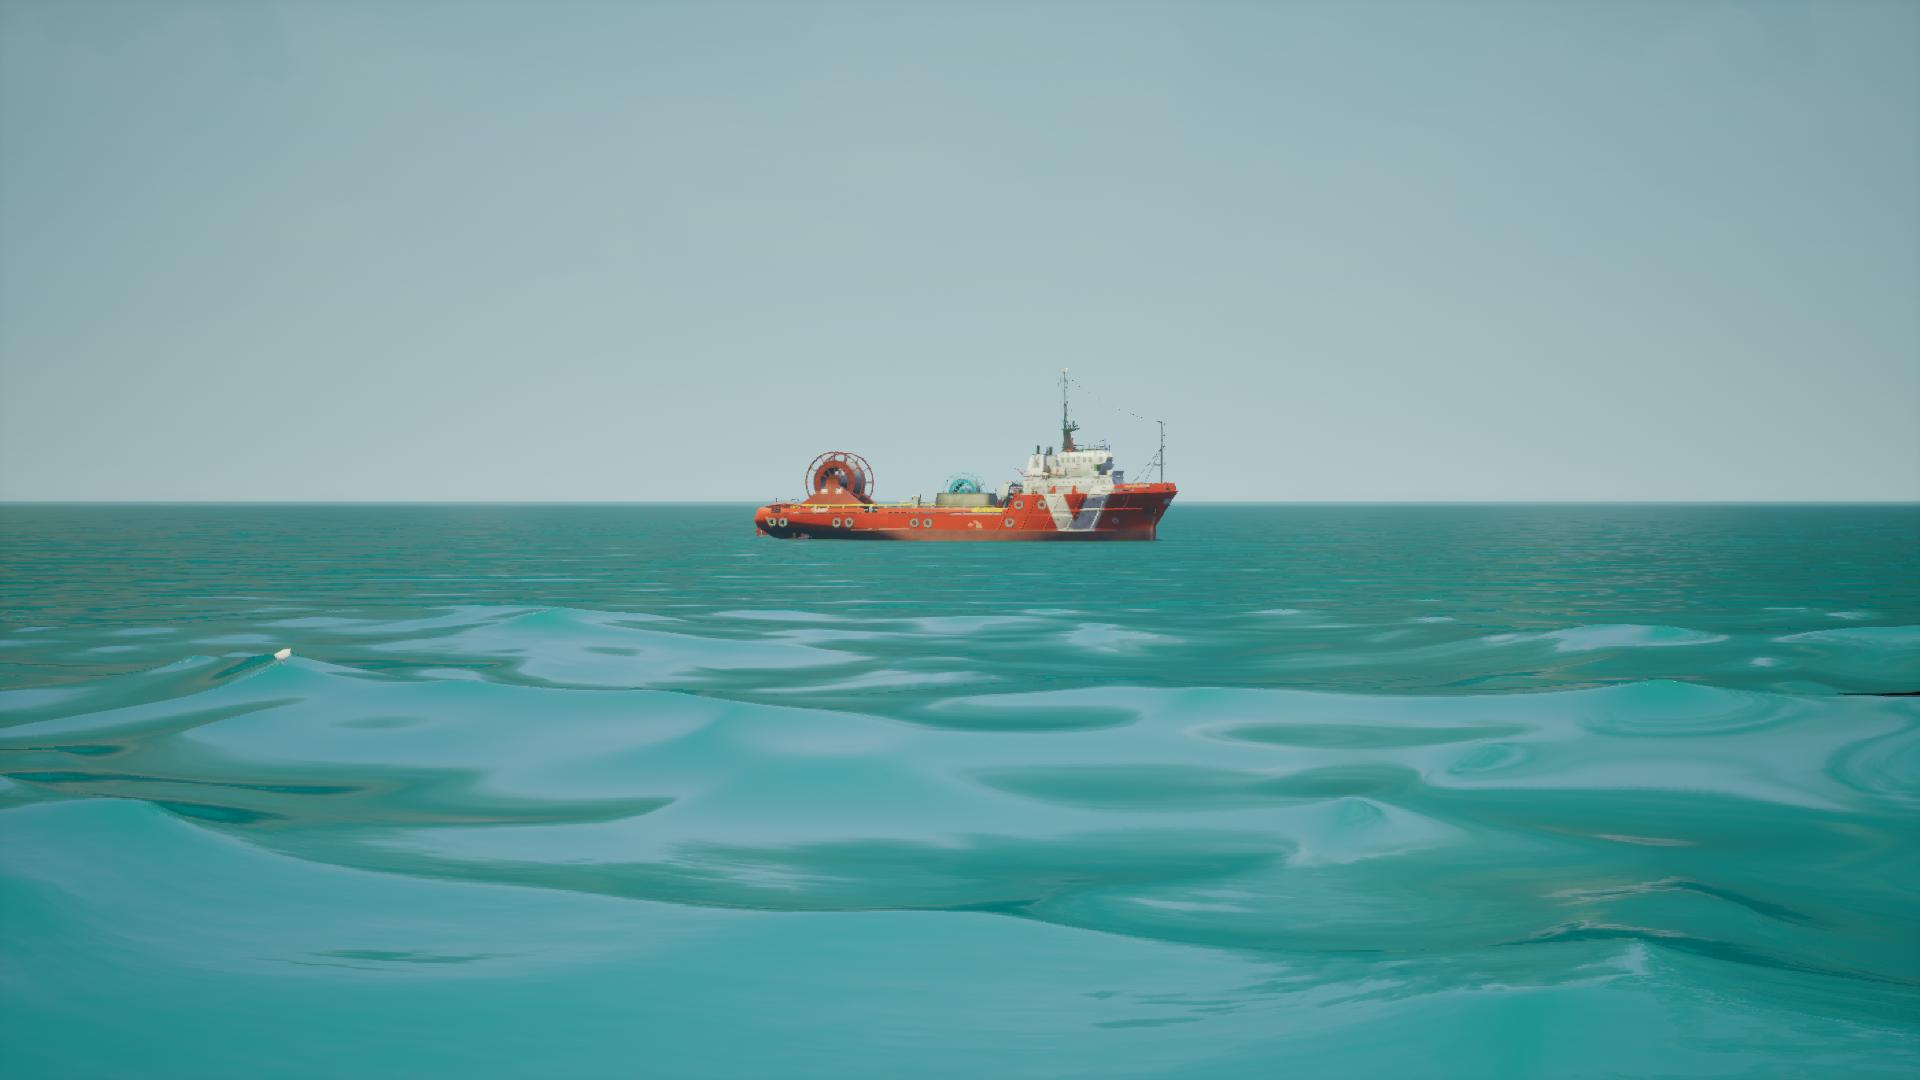Tug Boat: (754, 371, 1180, 545)
